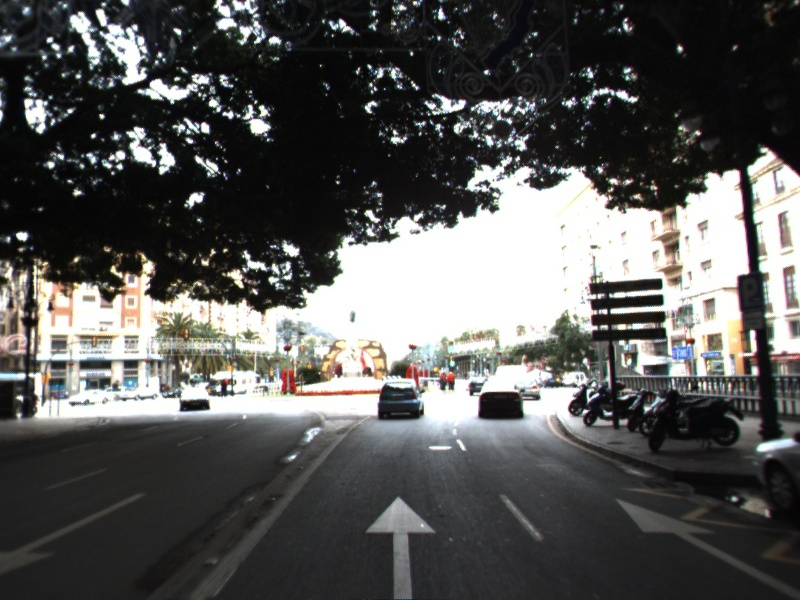STRAIGHT: (613, 495, 800, 600), (362, 494, 440, 600)
